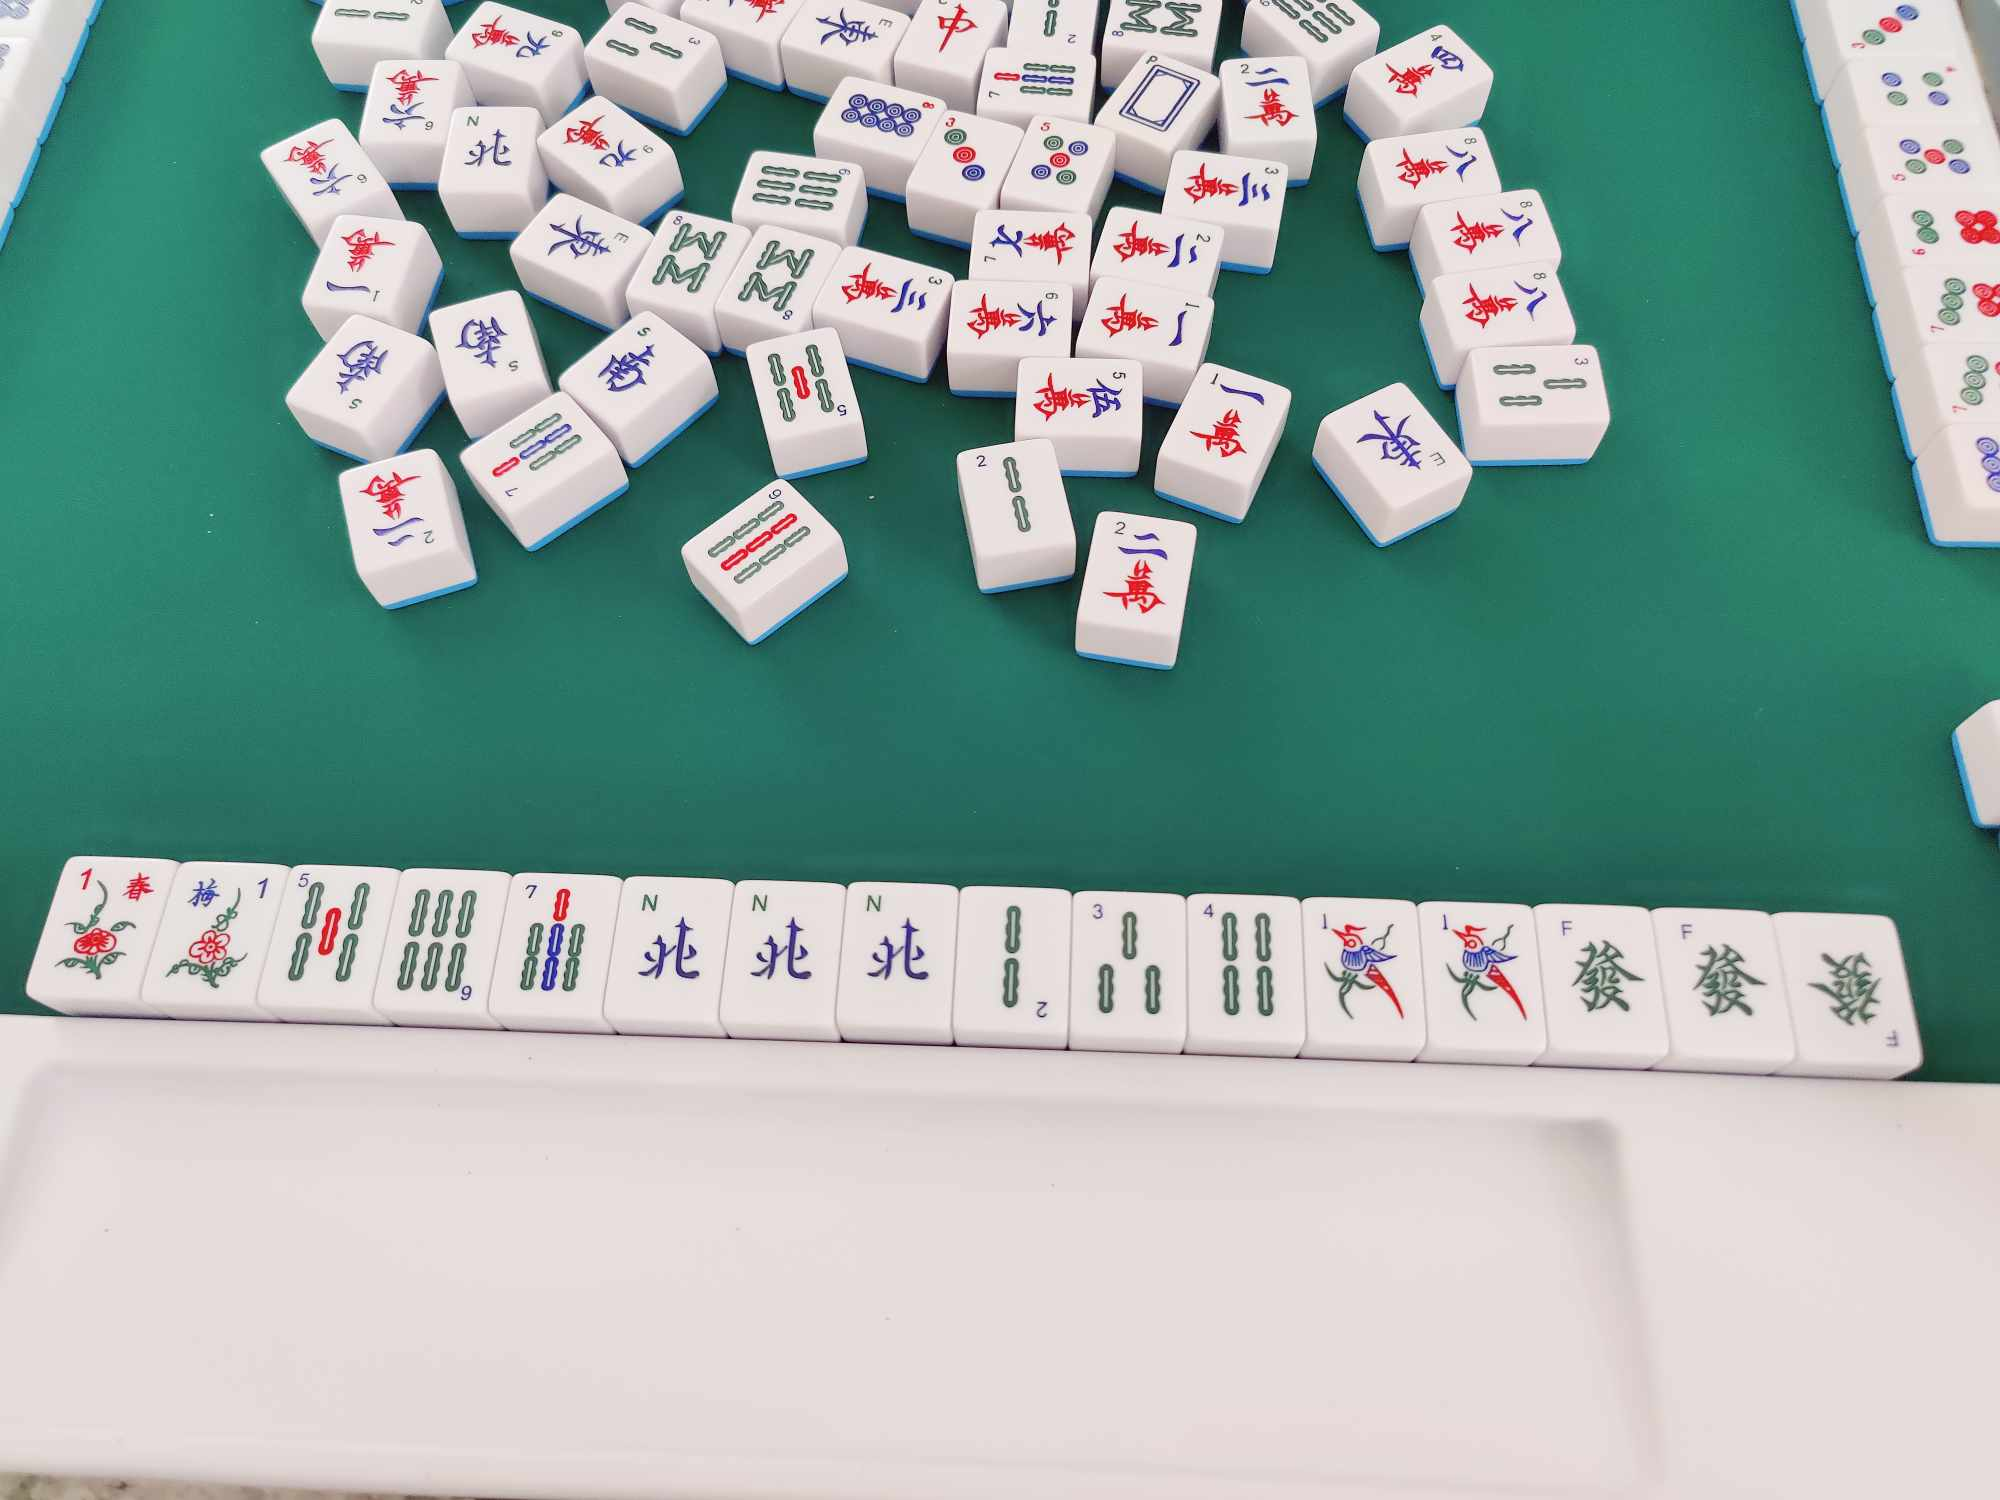bamboo-five: (287, 868, 373, 989)
bamboo-four: (1200, 897, 1280, 1021)
bamboo-one: (1435, 904, 1532, 1027), (1317, 904, 1408, 1026)
bamboo-seven: (513, 874, 595, 1008)
bamboo-six: (395, 878, 483, 1001)
bamboo-three: (1085, 895, 1175, 1030)
bamboo-two: (964, 892, 1068, 1024)
flower-blue_one: (170, 868, 272, 994)
flower-red_one: (57, 863, 154, 989)
honor-green_dragon: (1798, 930, 1906, 1051), (1672, 917, 1769, 1038), (1553, 914, 1650, 1030)
honor-north_wind: (850, 882, 950, 1019), (735, 884, 827, 1016), (627, 878, 713, 1007)
